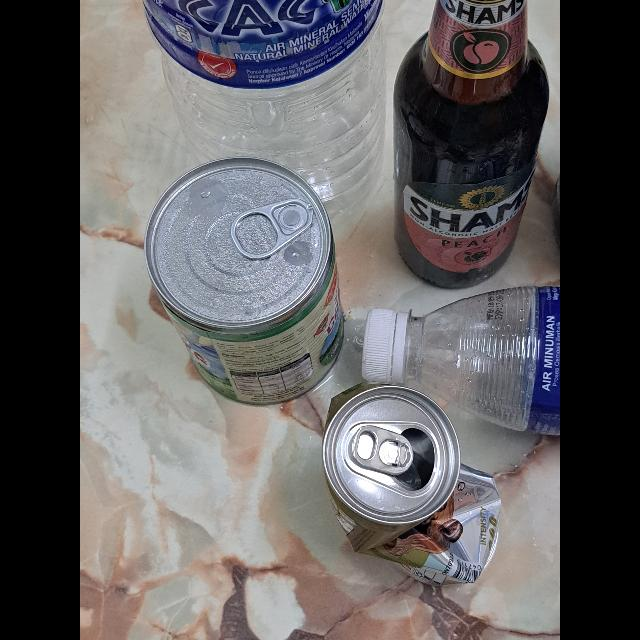aba de lata: (232, 197, 316, 257), (350, 422, 416, 476)
garrafa de vidro: (389, 0, 551, 288)
garrafa plástica: (142, 1, 384, 226), (410, 288, 560, 437)
lata: (142, 158, 346, 404), (322, 384, 504, 586)
tampa plástica: (358, 306, 398, 386)
